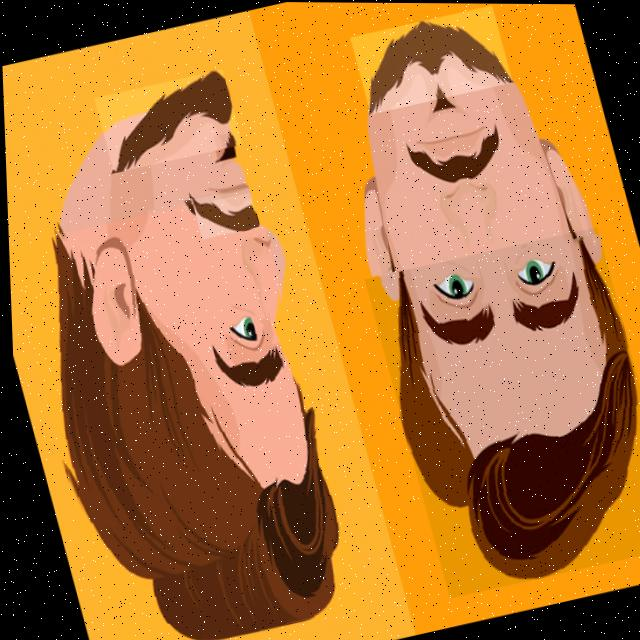beard: (368, 20, 511, 108), (112, 70, 229, 172), (190, 198, 255, 230), (216, 133, 234, 160)
hair: (48, 235, 332, 640), (395, 235, 633, 578)
